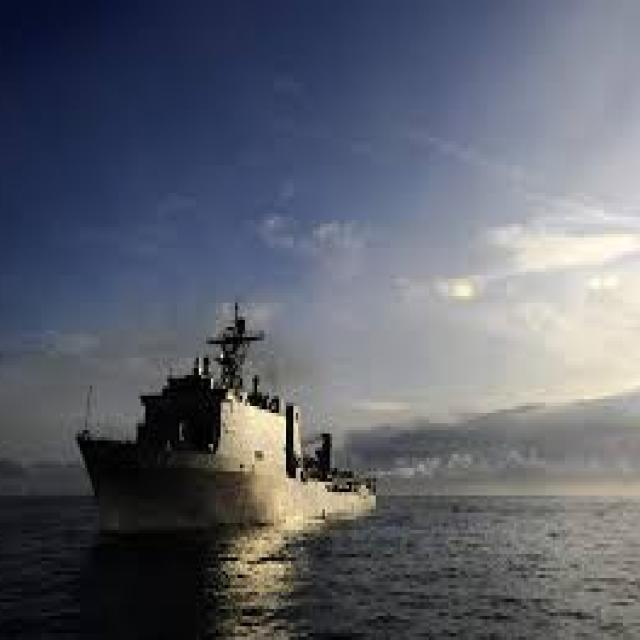navalvessels: (74, 303, 383, 551)
